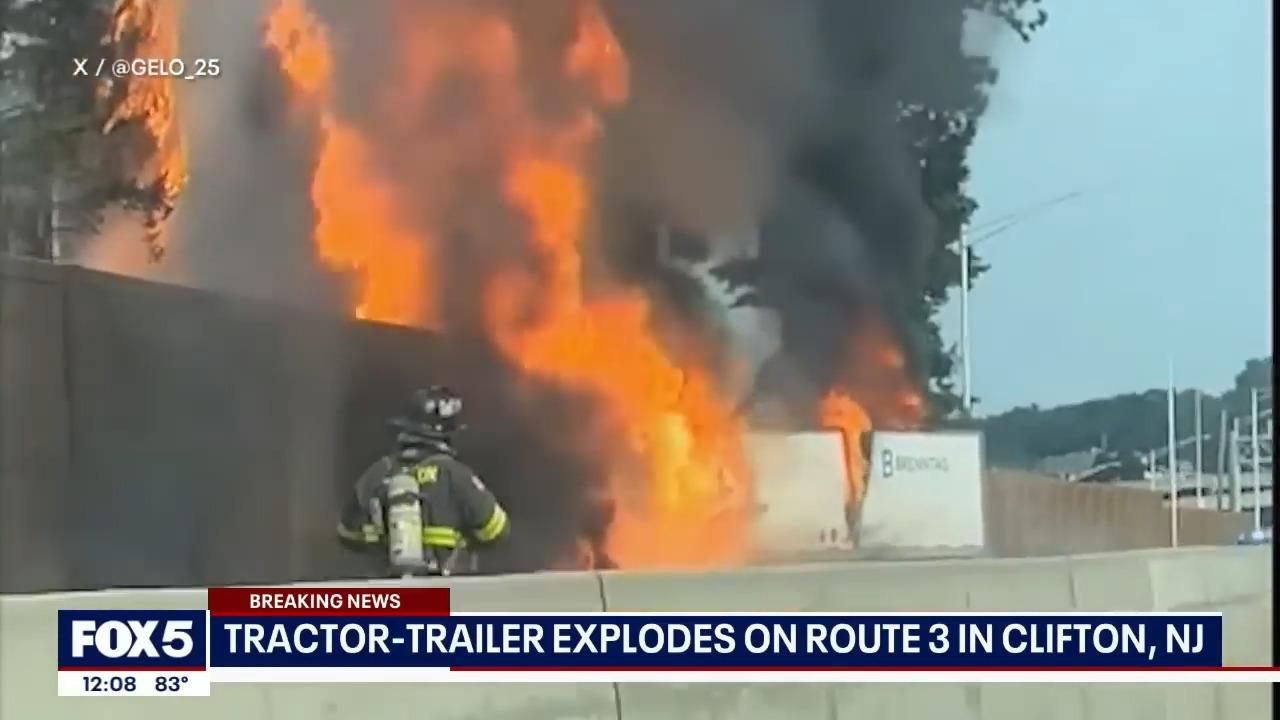fire: (239, 6, 640, 326), (503, 261, 774, 564), (78, 0, 186, 175)
